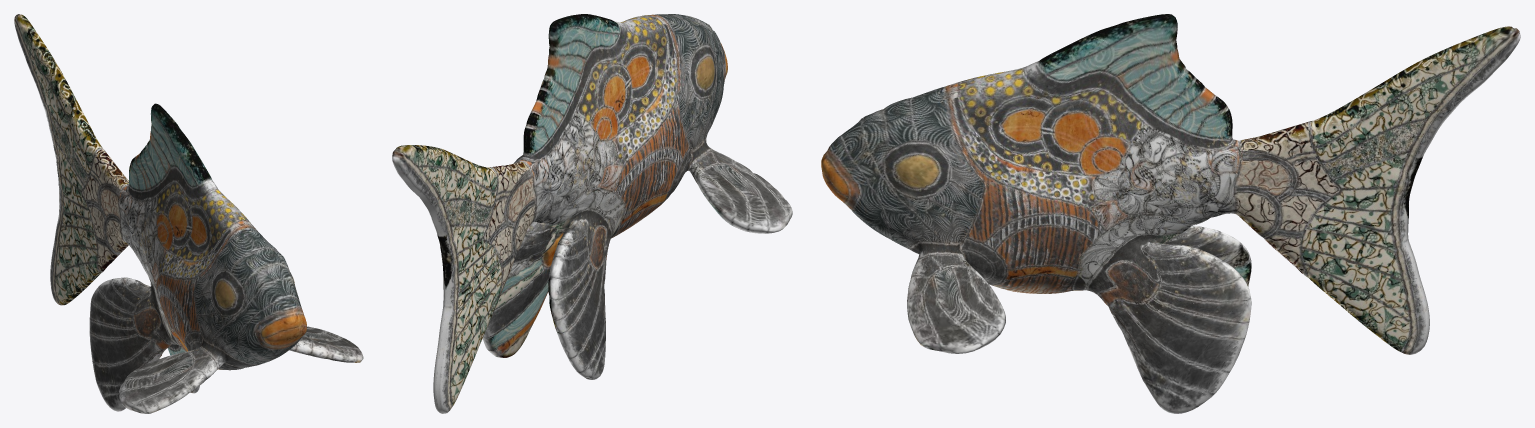
The picture shows the model from 3 angles, left to right: view 1: azimuth 30°, elevation 25°; view 2: azimuth 150°, elevation 25°; view 3: azimuth 270°, elevation 25°; orthographic projection. The views are drawn at different scales.
Visible parts, largest first — view 1: Goldfish_STTP2QE; view 2: Goldfish_STTP2QE; view 3: Goldfish_STTP2QE.
Boxes of the visible parts, box(x1,y1,x2,y2) form: Goldfish_STTP2QE: box(14, 14, 363, 413); Goldfish_STTP2QE: box(392, 14, 792, 413); Goldfish_STTP2QE: box(821, 14, 1520, 413).
Bounding box in the file's own units: 25.38 × 31.2 × 52.65.
Materials: 1 (1 with a texture image).
